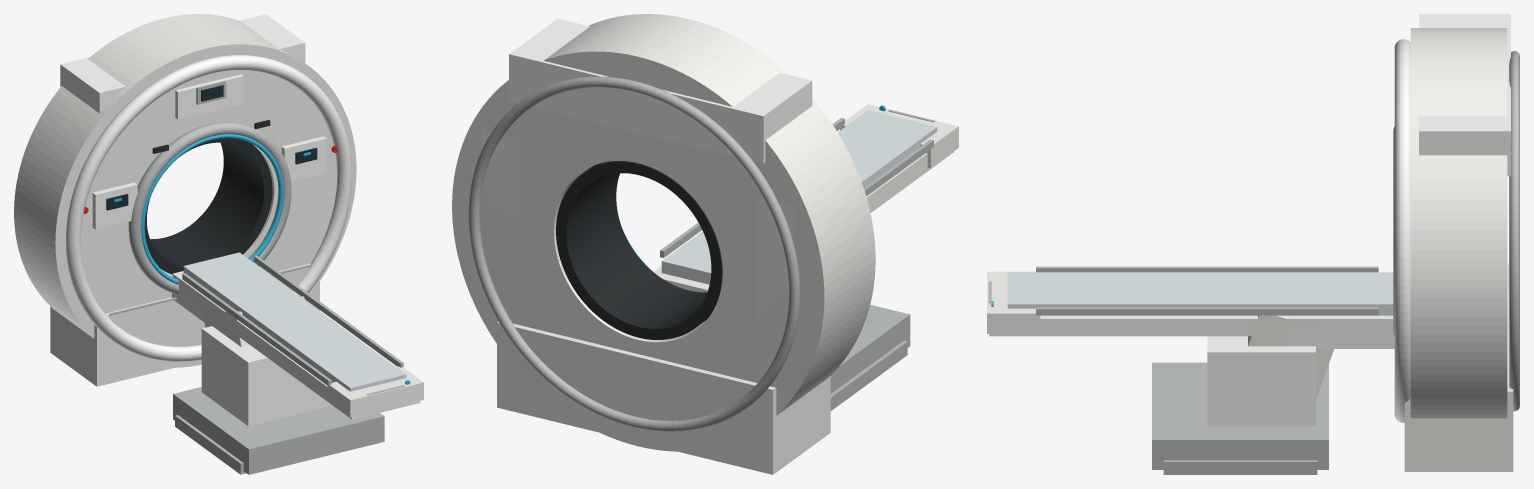
File: CT no patient .glb
The picture shows the model from 3 angles, left to right: view 1: azimuth 30°, elevation 25°; view 2: azimuth 150°, elevation 25°; view 3: azimuth 270°, elevation 25°; orthographic projection. The views are drawn at different scales.
Parts seen in each view (by area): view 1: MAIN CT GANTRY, FRONT OUTER RING, PATIENT MATTRESS, TABLE BASE, INNER BORE, LOWER GANTRY HOUSING, TABLE PEDESTAL, FRONT INNER RIM, TOP GANTRY HOUSING, TABLE HEAD, PATIENT TABLE, BORE LIGHT (+7 smaller); view 2: MAIN CT GANTRY, LOWER GANTRY HOUSING, INNER BORE, TOP GANTRY HOUSING, REAR OUTER RING, PATIENT MATTRESS, LEFT REAR GANTRY HOUSING, RIGHT REAR GANTRY HOUSING, TABLE BASE, PATIENT TABLE, TABLE HEAD, LEFT BASE FOOT (+2 smaller); view 3: MAIN CT GANTRY, PATIENT MATTRESS, TABLE BASE, TABLE PEDESTAL, LOWER GANTRY HOUSING, FRONT OUTER RING, PATIENT TABLE, TOP GANTRY HOUSING, REAR OUTER RING, RIGHT TABLE RAIL, LEFT TABLE RAIL, RIGHT BASE FOOT (+3 smaller).
Boxes of the visible parts, bbox=[...] form: MAIN CT GANTRY: bbox=[14, 14, 356, 367]; FRONT OUTER RING: bbox=[65, 55, 352, 361]; PATIENT MATTRESS: bbox=[183, 252, 406, 391]; TABLE BASE: bbox=[173, 387, 384, 474]; INNER BORE: bbox=[144, 138, 272, 274]; LOWER GANTRY HOUSING: bbox=[50, 263, 319, 386]; TABLE PEDESTAL: bbox=[201, 326, 332, 426]; FRONT INNER RIM: bbox=[128, 122, 291, 293]; TOP GANTRY HOUSING: bbox=[60, 14, 305, 113]; TABLE HEAD: bbox=[327, 366, 423, 417]; PATIENT TABLE: bbox=[172, 271, 420, 419]; BORE LIGHT: bbox=[141, 134, 283, 284]; MAIN CT GANTRY: bbox=[452, 14, 875, 451]; LOWER GANTRY HOUSING: bbox=[497, 322, 830, 474]; INNER BORE: bbox=[556, 161, 722, 339]; TOP GANTRY HOUSING: bbox=[509, 18, 812, 163]; REAR OUTER RING: bbox=[468, 76, 800, 431]; PATIENT MATTRESS: bbox=[661, 110, 937, 284]; LEFT REAR GANTRY HOUSING: bbox=[756, 196, 794, 358]; RIGHT REAR GANTRY HOUSING: bbox=[481, 129, 519, 251]; TABLE BASE: bbox=[830, 305, 910, 393]; PATIENT TABLE: bbox=[653, 151, 954, 292]; TABLE HEAD: bbox=[840, 104, 958, 168]; LEFT BASE FOOT: bbox=[830, 340, 907, 410]; MAIN CT GANTRY: bbox=[1410, 28, 1507, 418]; PATIENT MATTRESS: bbox=[1007, 272, 1393, 315]; TABLE BASE: bbox=[1152, 362, 1328, 469]; TABLE PEDESTAL: bbox=[1207, 336, 1315, 426]; LOWER GANTRY HOUSING: bbox=[1404, 264, 1513, 471]; FRONT OUTER RING: bbox=[1394, 39, 1410, 422]; PATIENT TABLE: bbox=[989, 315, 1393, 336]; TOP GANTRY HOUSING: bbox=[1419, 14, 1510, 176]; REAR OUTER RING: bbox=[1509, 51, 1519, 411]; RIGHT TABLE RAIL: bbox=[1036, 307, 1378, 315]; LEFT TABLE RAIL: bbox=[1036, 266, 1378, 272]; RIGHT BASE FOOT: bbox=[1163, 460, 1317, 474].
Bounding box in the file's own units: 3.44 × 3.62 × 4.51.
